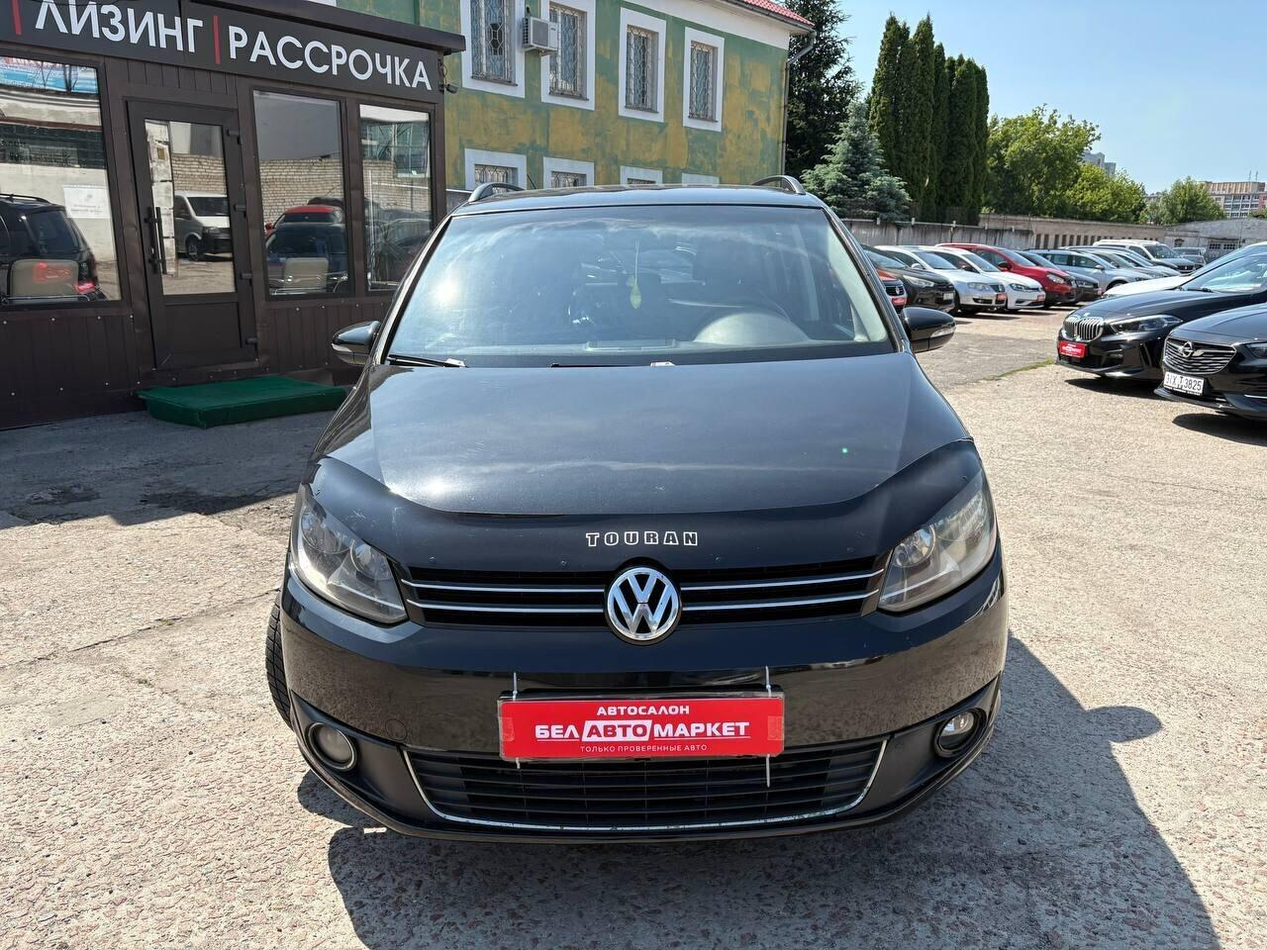Touran_2010-2015: (275, 182, 1012, 844)
